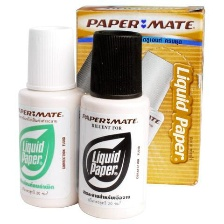book: (72, 3, 208, 187)
correction_fluid: (76, 27, 149, 221), (16, 23, 90, 210)
